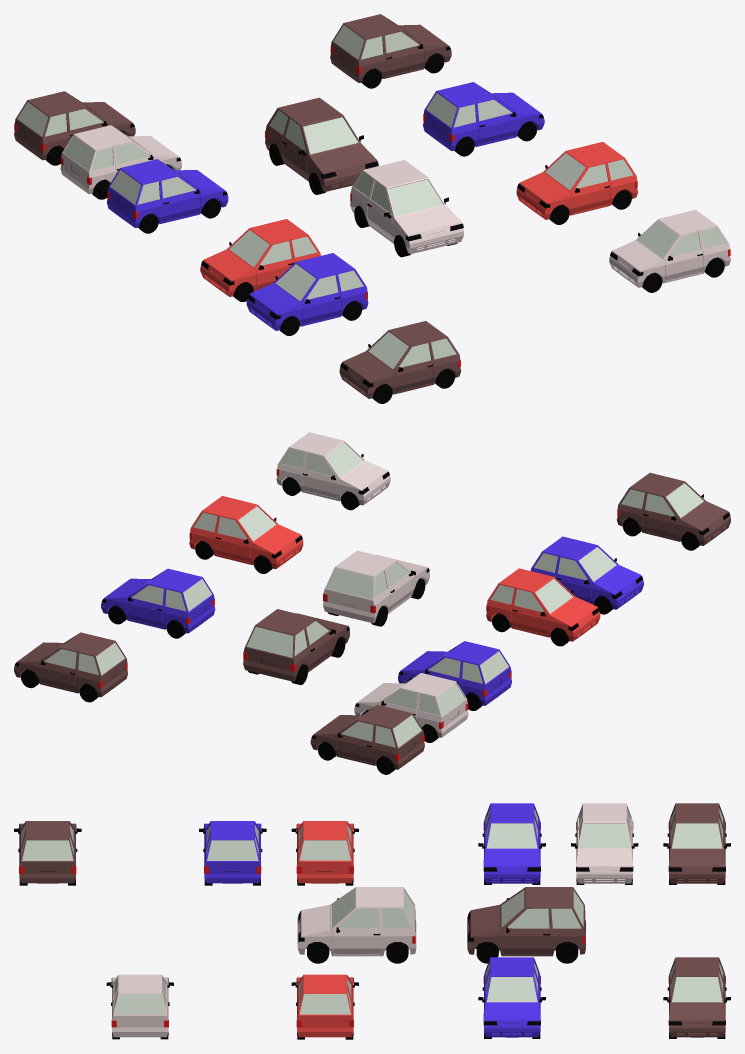
Rendered from Coches.obj.
3 views of the same model, one above another, from view 1: azimuth 30°, elevation 25°; view 2: azimuth 150°, elevation 25°; view 3: azimuth 270°, elevation 25° (orthographic). The views are drawn at different scales.
Visible parts, largest first — view 1: Coches; view 2: Coches; view 3: Coches.
Boxes of the visible parts, <box> form: Coches: <box>14,14,730,403</box>; Coches: <box>14,432,730,774</box>; Coches: <box>14,803,730,1039</box>.
Size of the model in its own units: 15.28 by 1.91 by 23.25.
